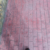zebra: (1, 7, 50, 39)
